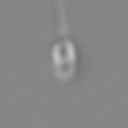normal: (51, 1, 70, 35)
